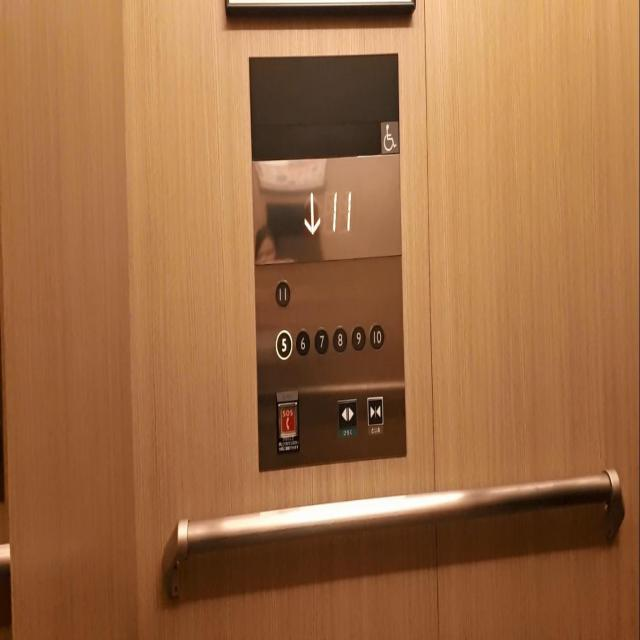10: (369, 322, 384, 350)
11: (274, 278, 290, 306)
5: (274, 325, 293, 364)
6: (295, 326, 310, 358)
7: (312, 324, 328, 355)
8: (332, 322, 348, 352)
9: (351, 322, 366, 352)
CH: (379, 118, 399, 154)
call: (275, 397, 299, 441)
close: (364, 394, 385, 428)
led: (254, 158, 401, 262)
open: (335, 397, 357, 429)
